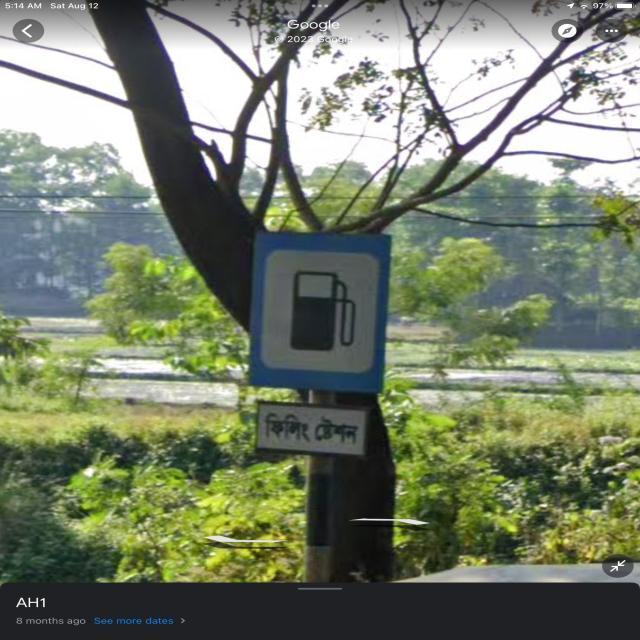Petrol-Station-in-front: (235, 231, 415, 480)
